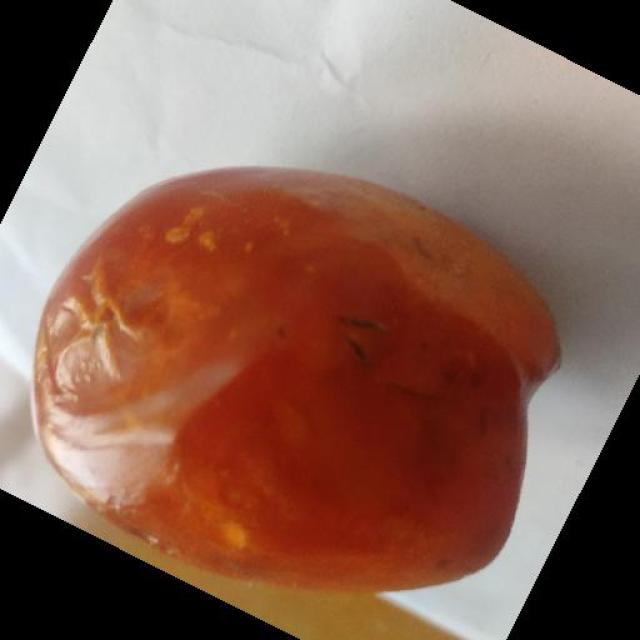Stale_tomato: (50, 177, 553, 593)
